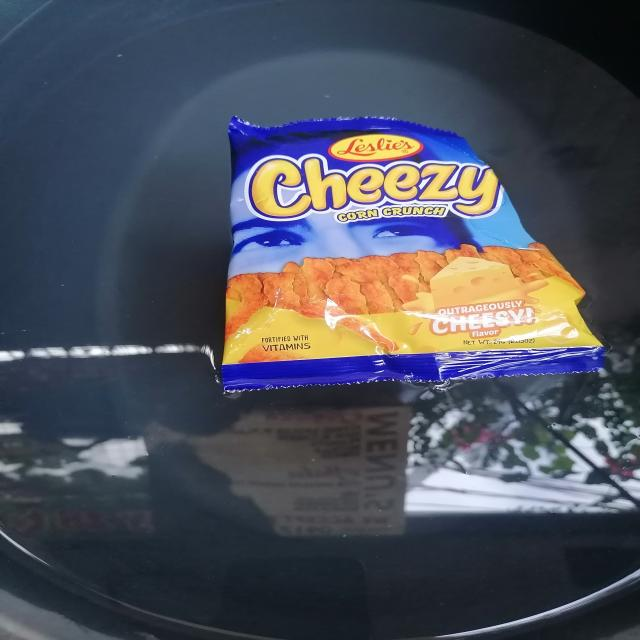Plastic Wrapper: (187, 101, 618, 406)
